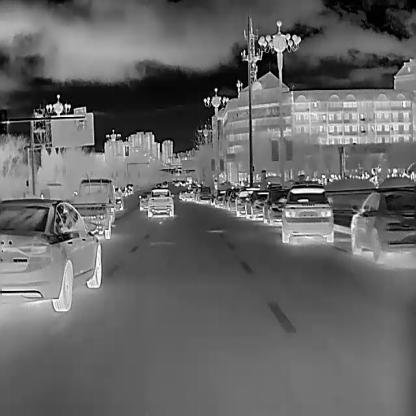bus: (187, 176, 191, 184)
car: (0, 198, 101, 312), (350, 188, 416, 262), (279, 188, 333, 241), (262, 188, 287, 224), (146, 188, 172, 215), (244, 189, 268, 218), (234, 190, 248, 214), (195, 185, 212, 204), (227, 187, 240, 210), (112, 186, 124, 209), (221, 187, 233, 208), (138, 191, 150, 210), (214, 189, 225, 207), (192, 186, 200, 201), (184, 188, 194, 200), (124, 183, 132, 194), (178, 189, 186, 200), (161, 180, 167, 188), (154, 182, 160, 188), (174, 180, 178, 186), (181, 180, 185, 186)
truck: (68, 177, 114, 237)
